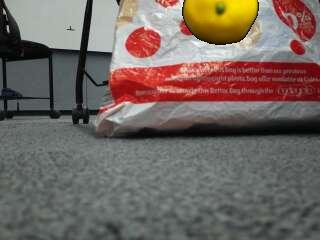lemon: (185, 0, 258, 45)
